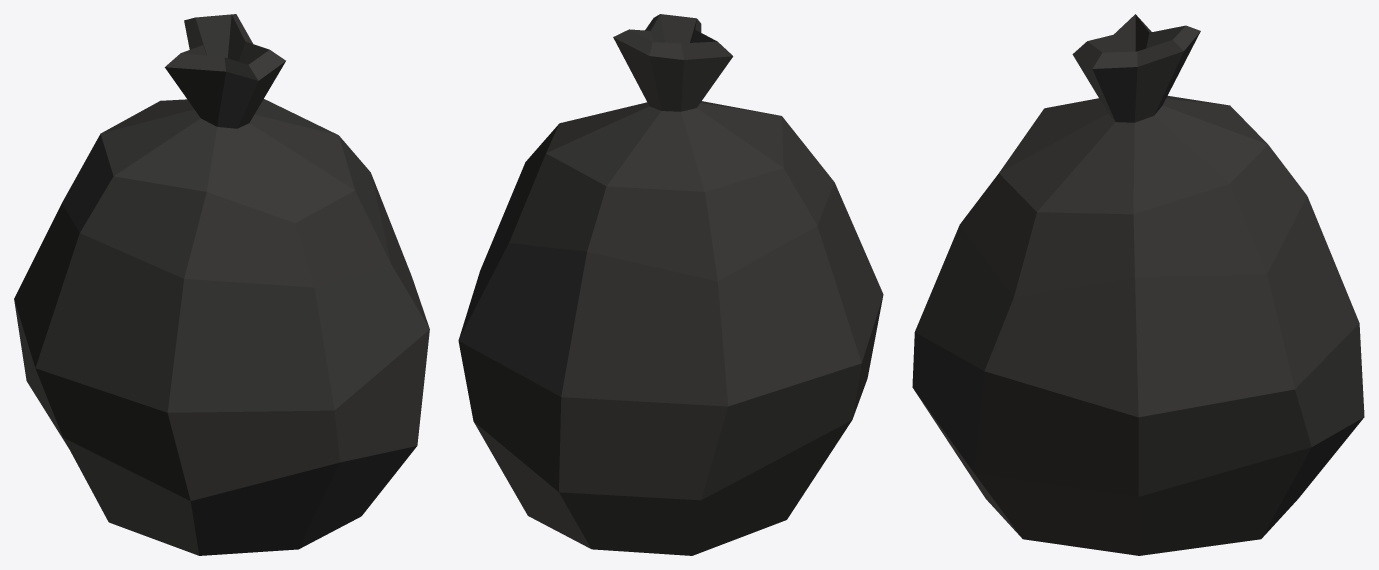
Rendered from Trash_Bag_2.fbx.
3 renders of one model, left to right at view 1: azimuth 30°, elevation 25°; view 2: azimuth 150°, elevation 25°; view 3: azimuth 270°, elevation 25°, orthographic. The views are drawn at different scales.
Parts seen in each view (by area): view 1: Trash_Bag_2; view 2: Trash_Bag_2; view 3: Trash_Bag_2.
Part boxes in pixels (x1=…): Trash_Bag_2: x1=14, y1=14, x2=429, y2=555; Trash_Bag_2: x1=458, y1=14, x2=883, y2=555; Trash_Bag_2: x1=912, y1=14, x2=1364, y2=555.
Bounding box in the file's own units: 0.7932 × 0.9298 × 0.8082.
Materials: 1 (1 with a texture image).
